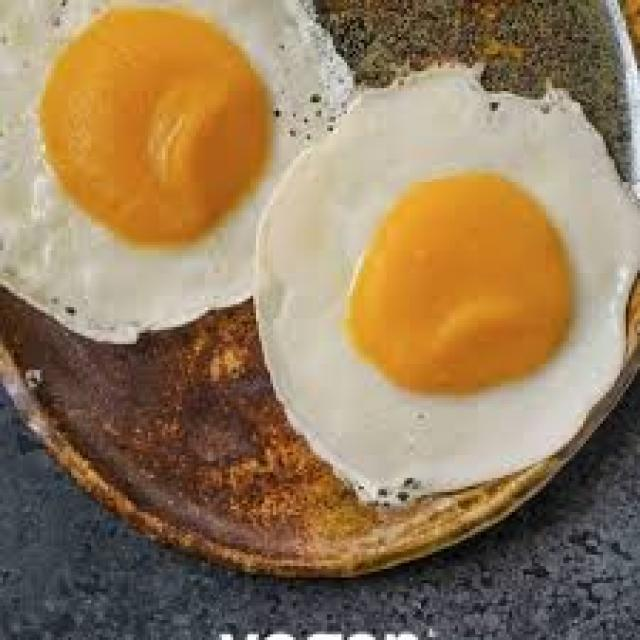Egg: (255, 69, 640, 504), (0, 0, 355, 342)
